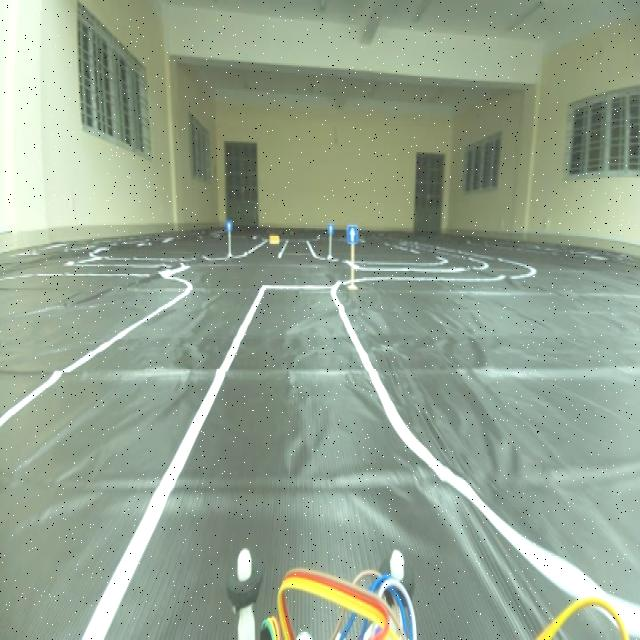onewayroad: (345, 220, 359, 247), (224, 216, 232, 235), (325, 220, 333, 231)
roadblock: (266, 232, 282, 248)
